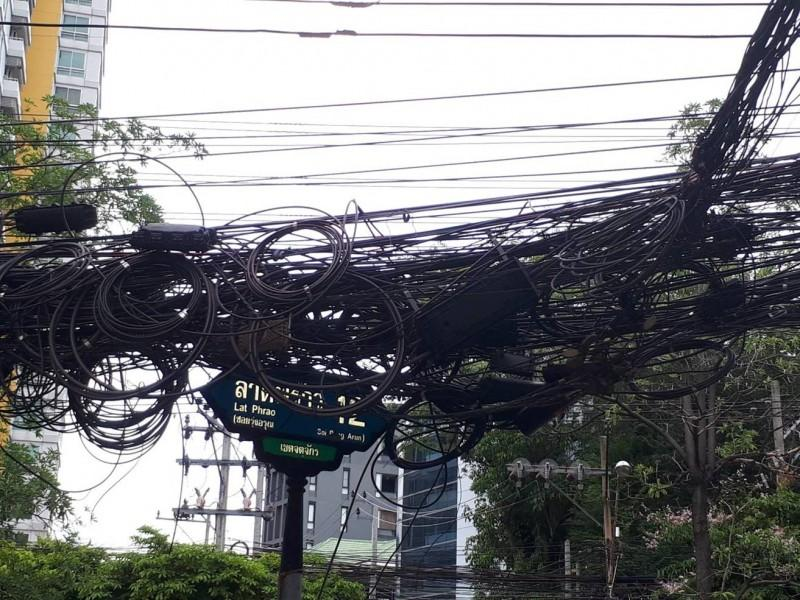wires: (219, 143, 600, 393)
